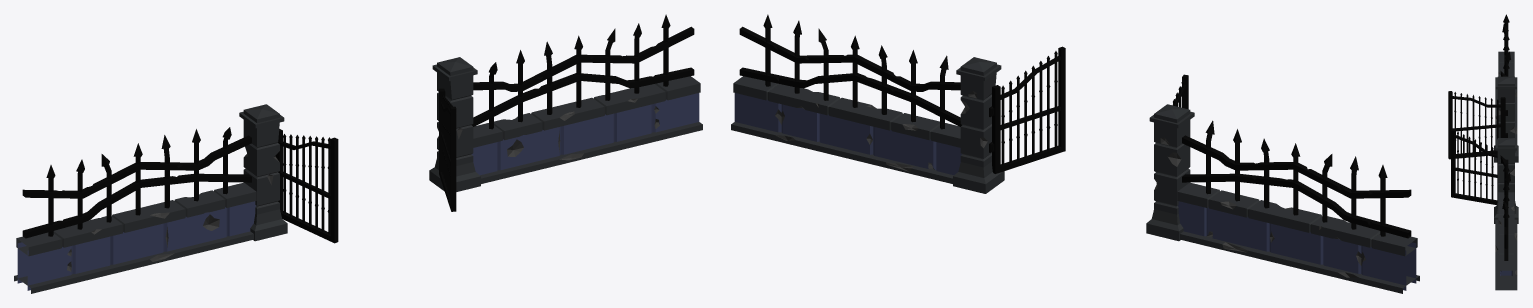
File: GraveyardGateOpen (1).fbx
The picture shows the model from 3 angles, left to right: view 1: azimuth 30°, elevation 25°; view 2: azimuth 150°, elevation 25°; view 3: azimuth 270°, elevation 25°; orthographic projection. The views are drawn at different scales.
Parts seen in each view (by area): view 1: GateRight; view 2: GateRight; view 3: GateRight.
Part boxes in pixels (x1,y1,x2,y2): GateRight: (14,14,702,293); GateRight: (731,14,1419,293); GateRight: (1448,14,1518,290).
Size of the model in its own units: 847 by 146 by 118.
